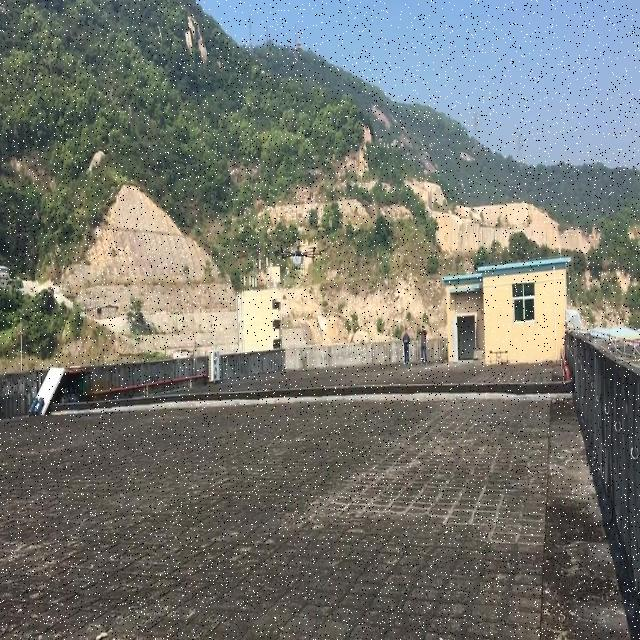UAV: (274, 245, 326, 279)
